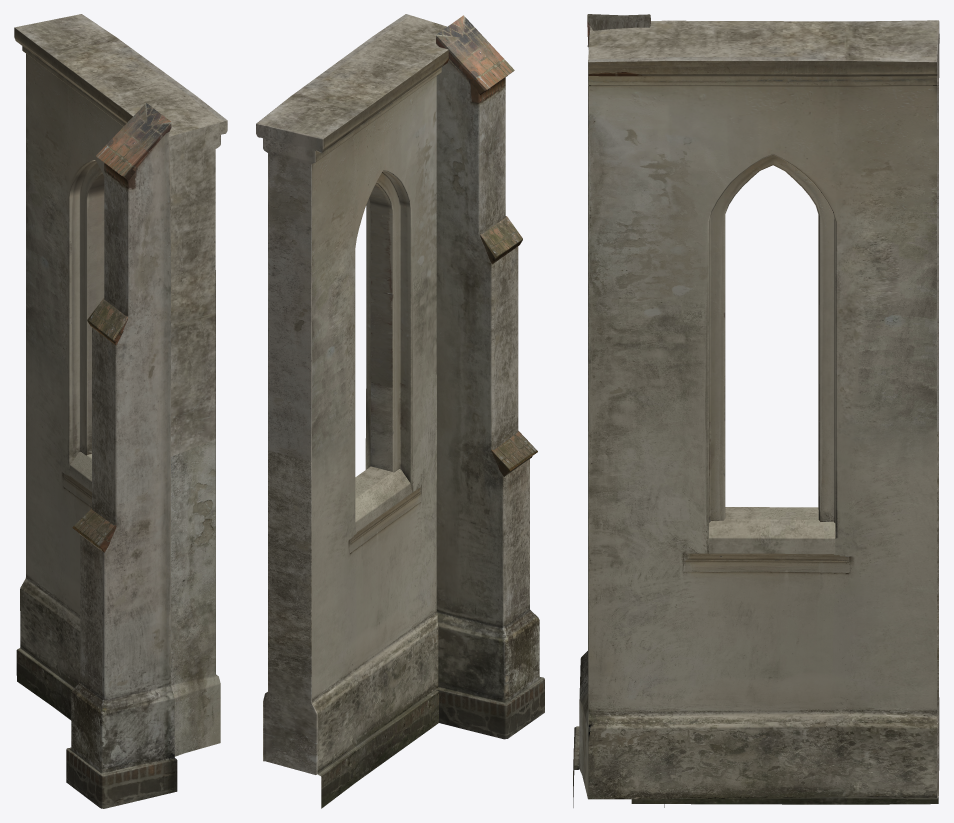
File: sm_Church_01_30.fbx
3 views of the same model, side by side, from view 1: azimuth 30°, elevation 25°; view 2: azimuth 150°, elevation 25°; view 3: azimuth 270°, elevation 25° (orthographic). The views are drawn at different scales.
Parts seen in each view (by area): view 1: sm_Church_01_30_LOD0; view 2: sm_Church_01_30_LOD0; view 3: sm_Church_01_30_LOD0.
Boxes of the visible parts, left/top/right/bottom form: sm_Church_01_30_LOD0: left=14, top=14, right=227, bottom=808; sm_Church_01_30_LOD0: left=256, top=14, right=544, bottom=808; sm_Church_01_30_LOD0: left=573, top=14, right=939, bottom=807.
Size of the model in its own units: 94.13 by 189 by 452.
